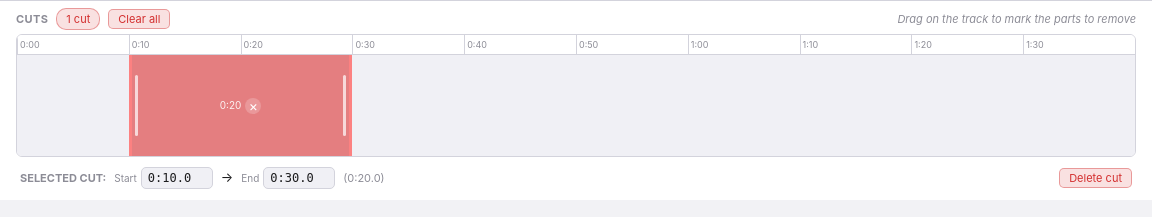
CutTimeline — clavier › le champ de temps reprend la valeur retenue quand la saisie est sans effet
Replace the text in the field titled "M:SS.s" with "garbage" at [177, 178], box [141,167,213,189]
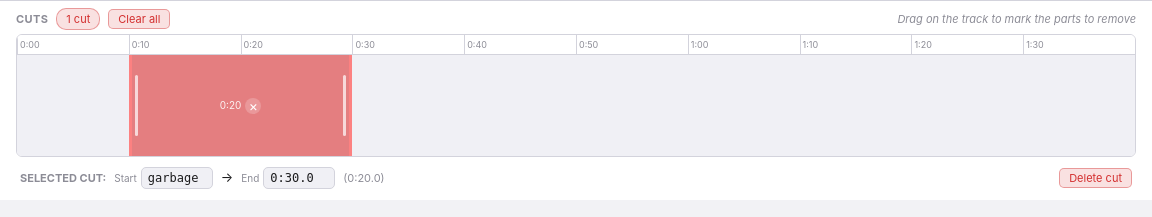
Leave the field titled "M:SS.s", box [141,167,213,189]
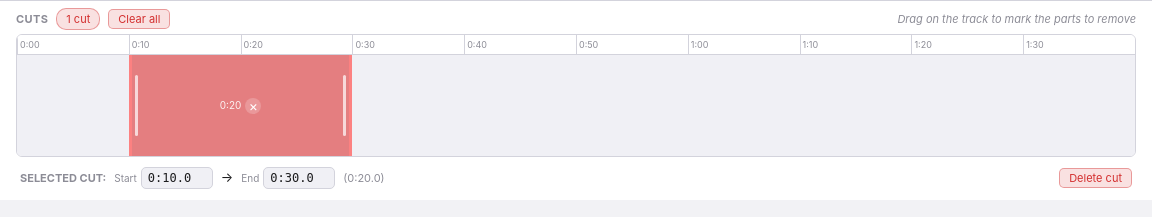
Result: the field titled "M:SS.s" holds "0:10.0" at [141,167,213,189]
